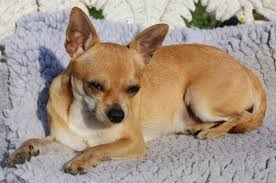chihuahua: (4, 6, 266, 173)
